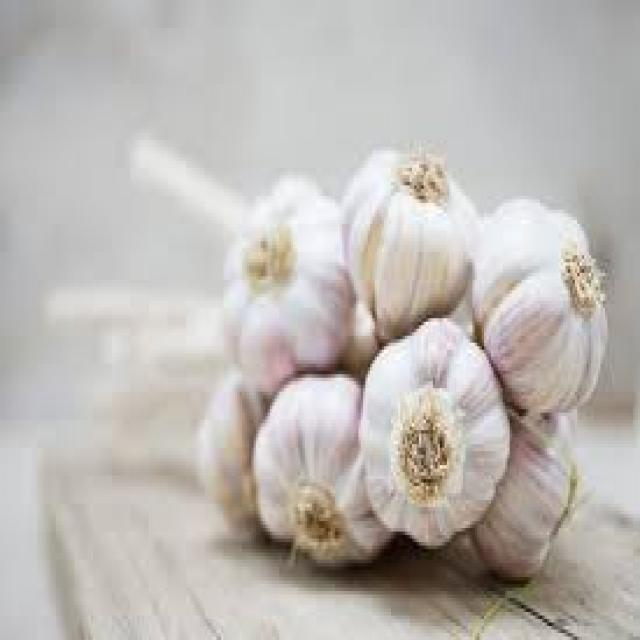organic waste: (356, 304, 507, 553), (470, 196, 603, 413), (246, 367, 388, 560), (340, 140, 477, 339), (219, 175, 351, 378), (463, 409, 580, 581), (186, 378, 277, 542), (340, 286, 379, 378)
